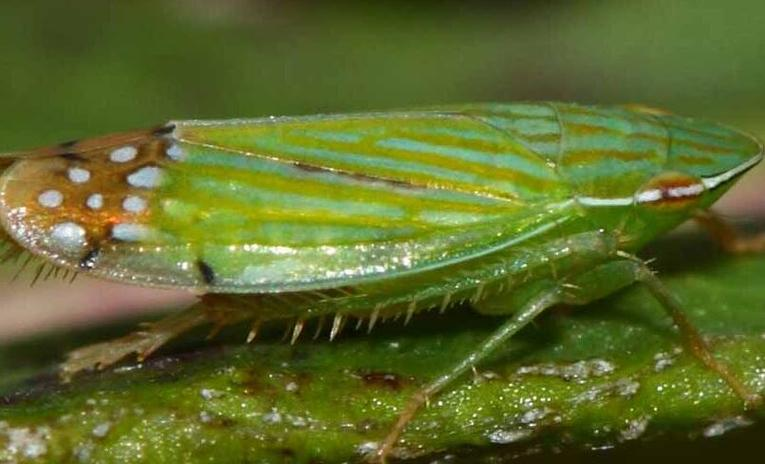Cicadellidae: (2, 100, 765, 464)
